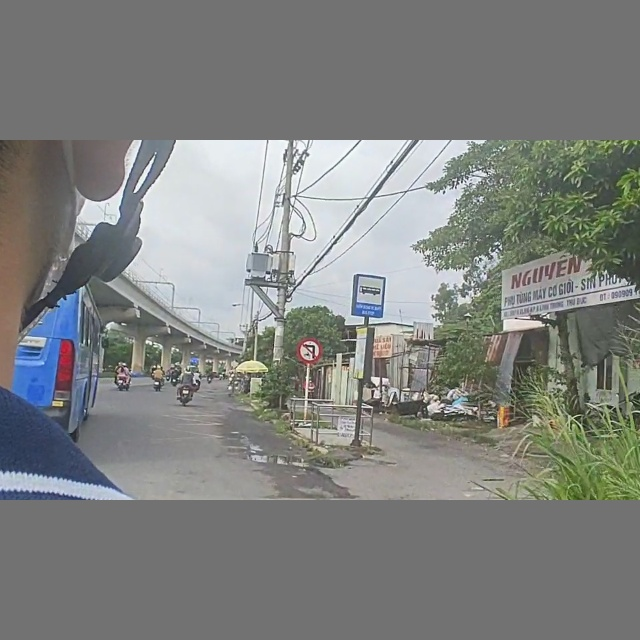I.434a: (351, 272, 386, 319)
P.123a: (295, 337, 323, 365)
